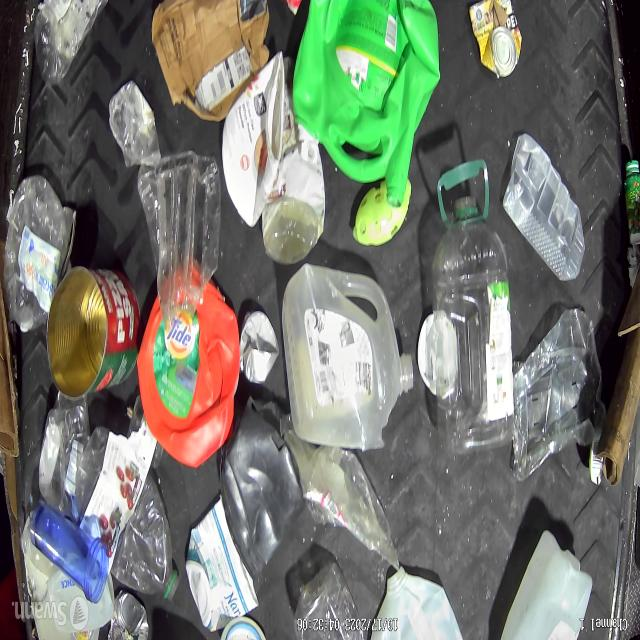can: (46, 266, 141, 399), (469, 0, 521, 78), (108, 590, 149, 640)
milk_jug: (490, 527, 593, 640), (373, 567, 468, 640)
non_white_jug: (290, 3, 440, 190), (284, 263, 408, 447), (136, 262, 239, 463)
plastic_bottle: (430, 227, 516, 459), (74, 428, 179, 602), (510, 306, 607, 486)
